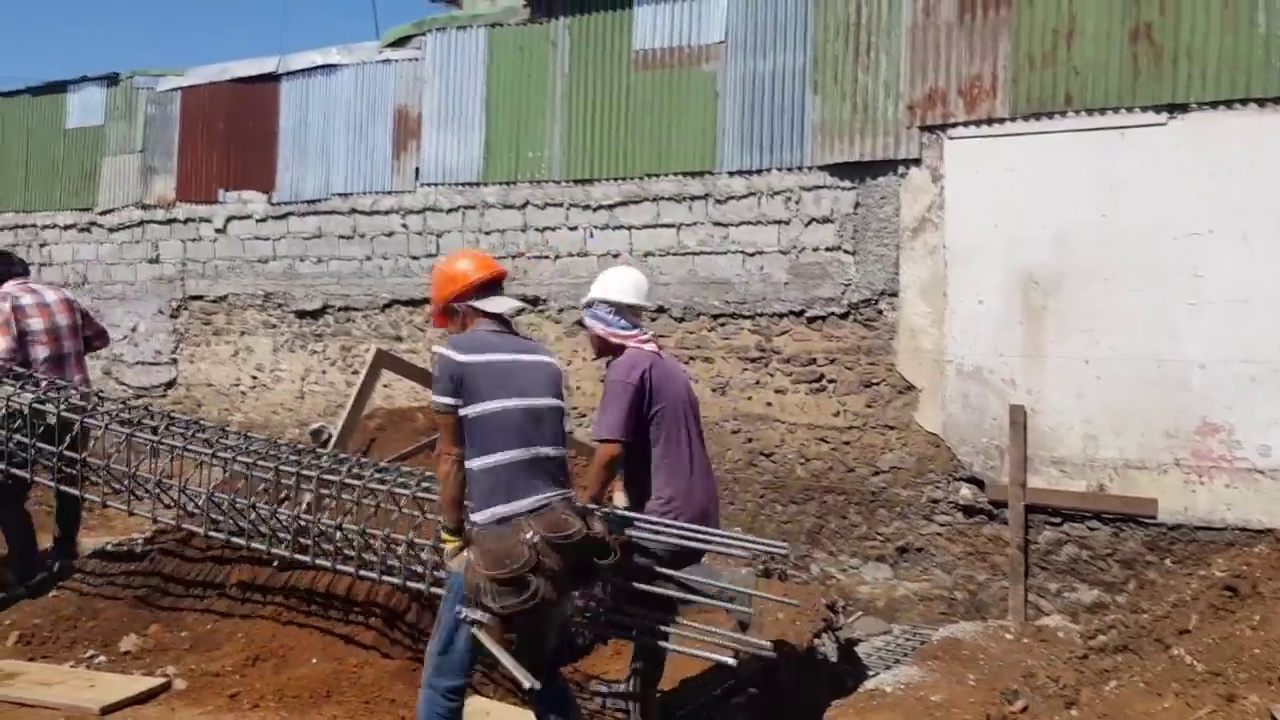helmet: (424, 246, 508, 333), (583, 263, 650, 310)
helmet-off: (0, 248, 36, 288)
helmet-on: (421, 245, 528, 336), (564, 262, 655, 369)
person: (415, 246, 571, 719), (560, 266, 720, 707), (0, 243, 110, 593)
